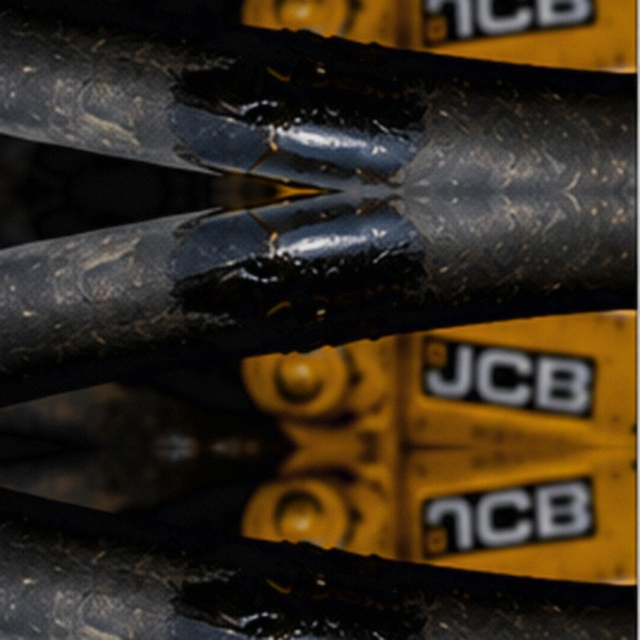hydraulic_oil_leak: (223, 183, 456, 423)
